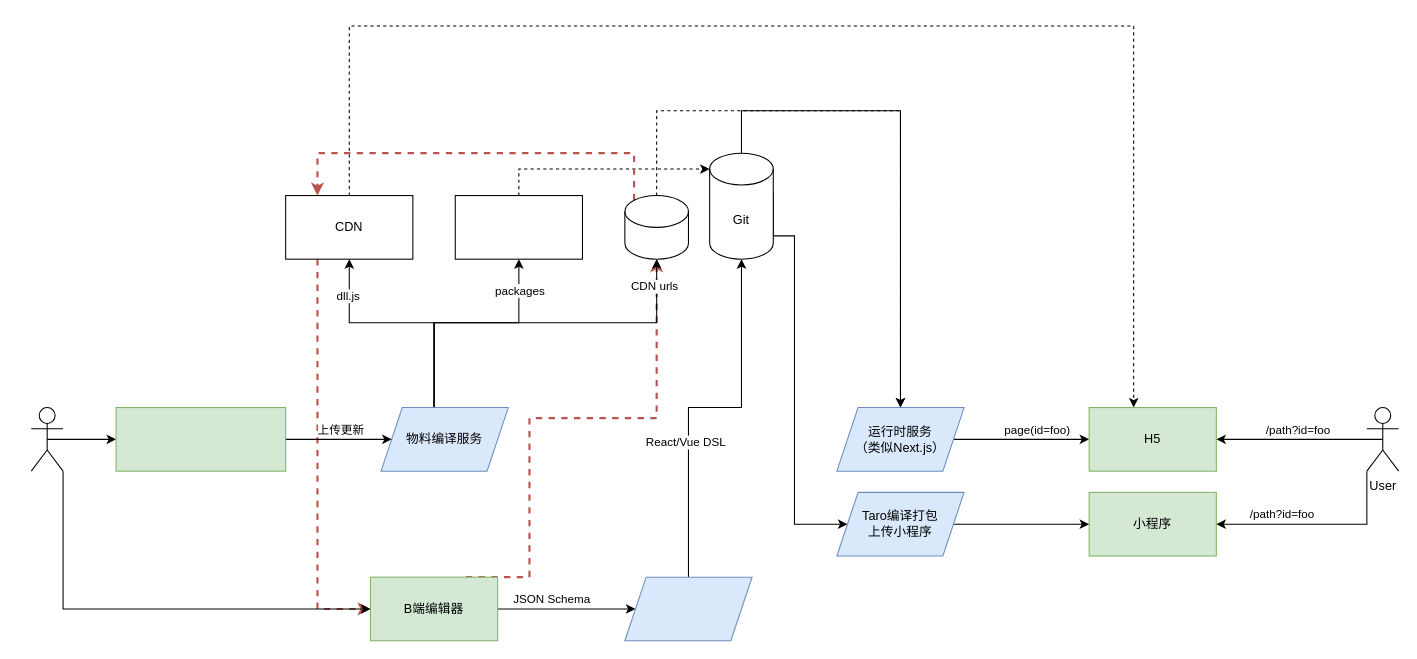
Some shapes in this 1417 by 659 pixel diagram are drawn without their labels. Here are the shapes that lost their labels. From the top down, the centre of each, then its label:
At point 518,227: "NPM".
At point 656,227: "DB".
At point 46,439: "Developer".
At point 200,439: "B端物料管理 （组件、行为、core.js）".
At point 688,608: "DSL编译服务".
